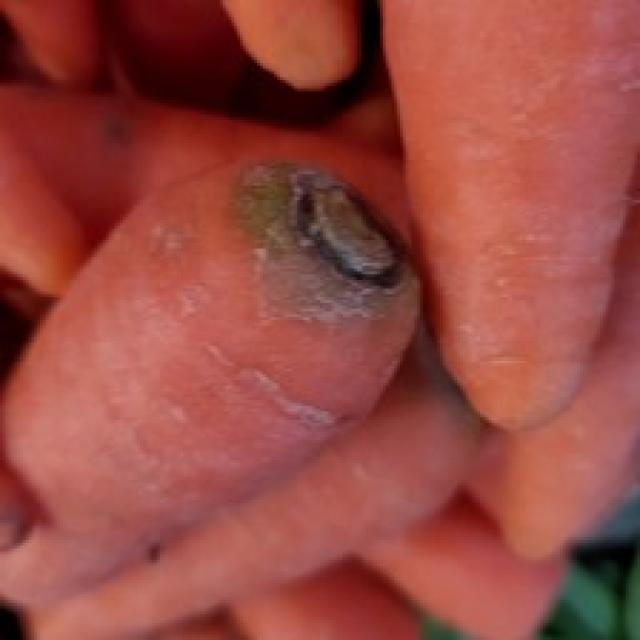Fresh_Carrot: (384, 9, 640, 458)
